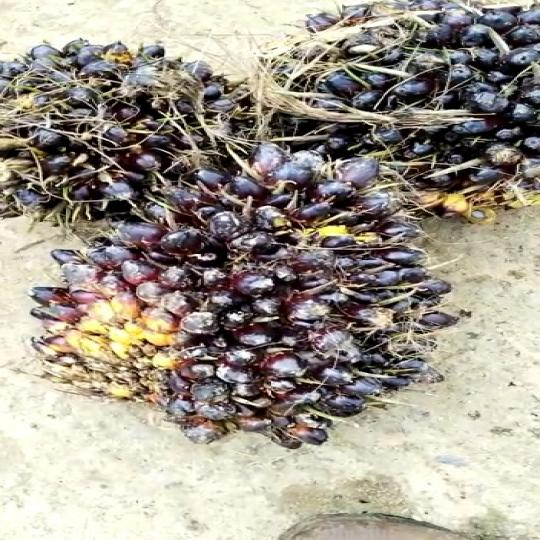mentah: (35, 145, 470, 441), (256, 0, 537, 208), (0, 23, 282, 221)
